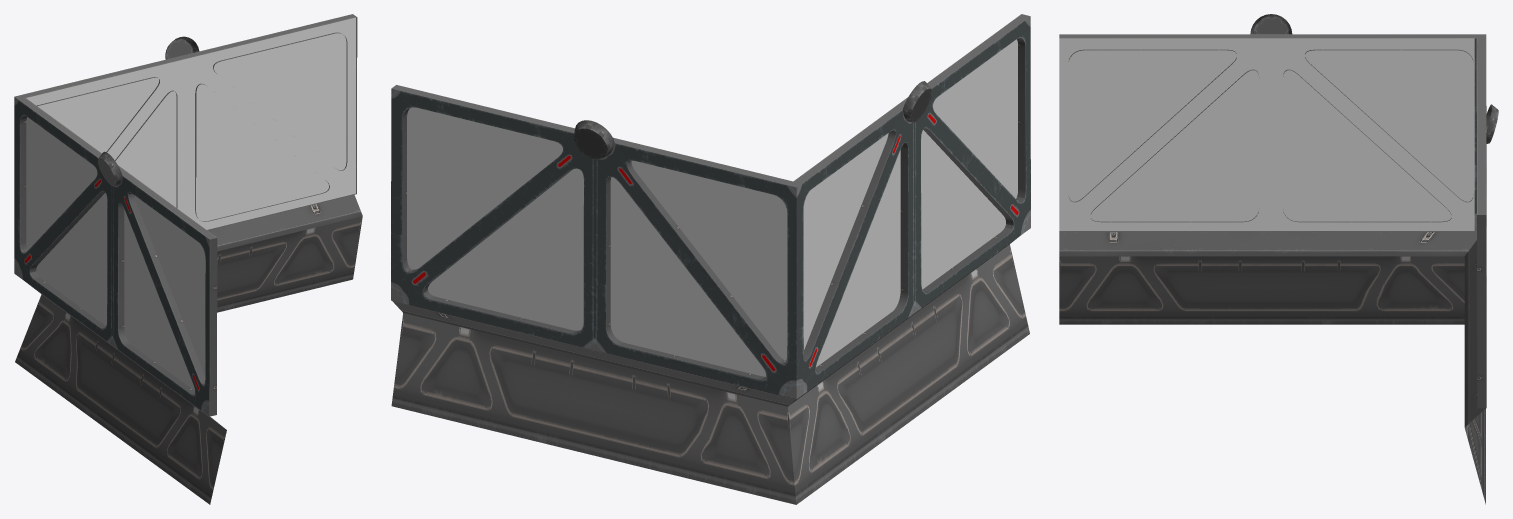
Rendered from wall_window_corner_square_outer.glb.
3 views of the same model, side by side, from view 1: azimuth 30°, elevation 25°; view 2: azimuth 150°, elevation 25°; view 3: azimuth 270°, elevation 25° (orthographic). The views are drawn at different scales.
Parts seen in each view (by area): view 1: WallWindow_Corner_Square_Outer; view 2: WallWindow_Corner_Square_Outer; view 3: WallWindow_Corner_Square_Outer.
Part boxes in pixels (x1,y1,x2,y2): WallWindow_Corner_Square_Outer: (14, 14, 362, 504); WallWindow_Corner_Square_Outer: (391, 14, 1030, 504); WallWindow_Corner_Square_Outer: (1059, 14, 1498, 504).
Bounding box in the file's own units: 4.12 × 3.19 × 4.12.
4 materials, 3 textured.
